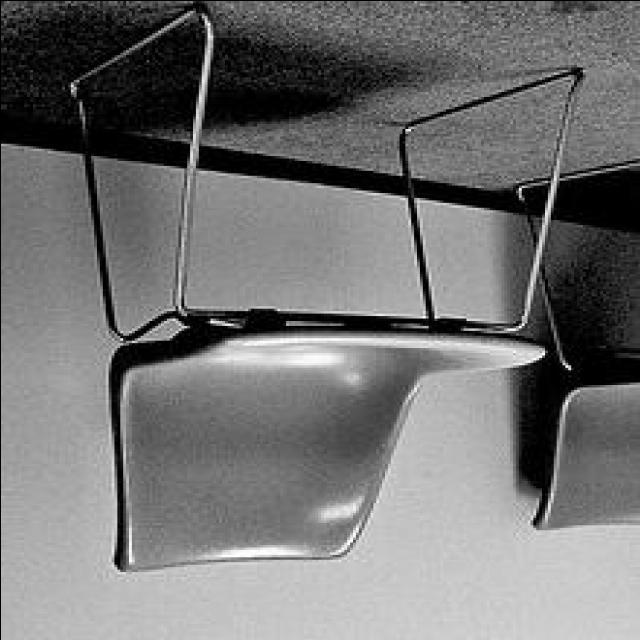chair: (61, 7, 586, 572)
